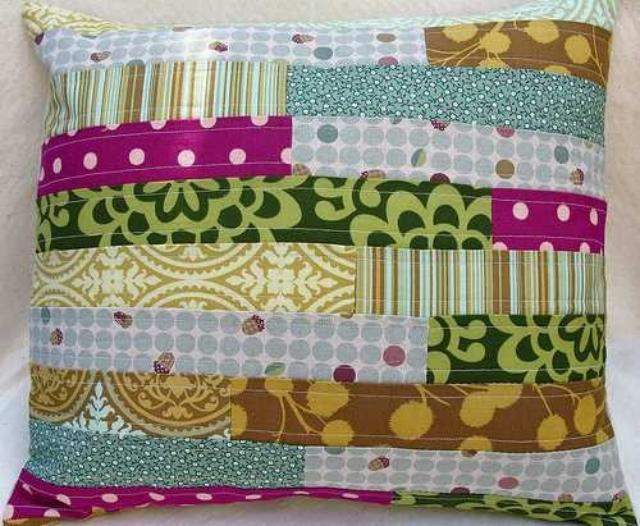pillow: (5, 0, 633, 524)
